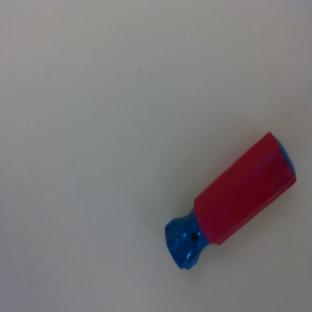part_2_good: (152, 131, 306, 277)
